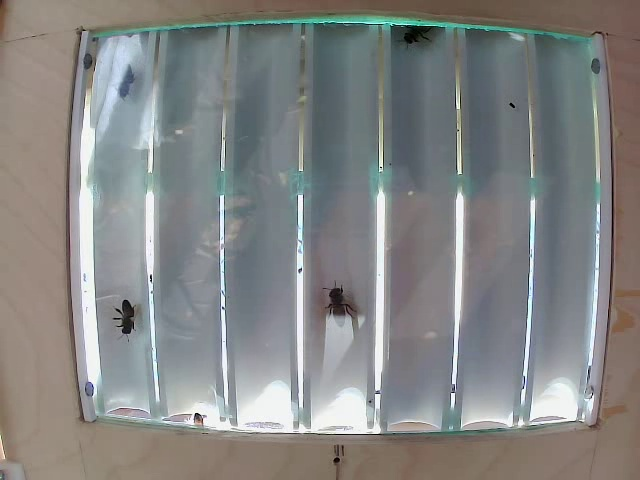bee: (325, 291, 362, 345), (107, 73, 146, 111), (113, 311, 159, 333)
